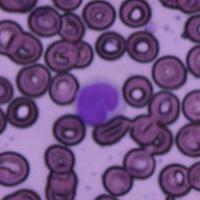M: (74, 76, 125, 127)
